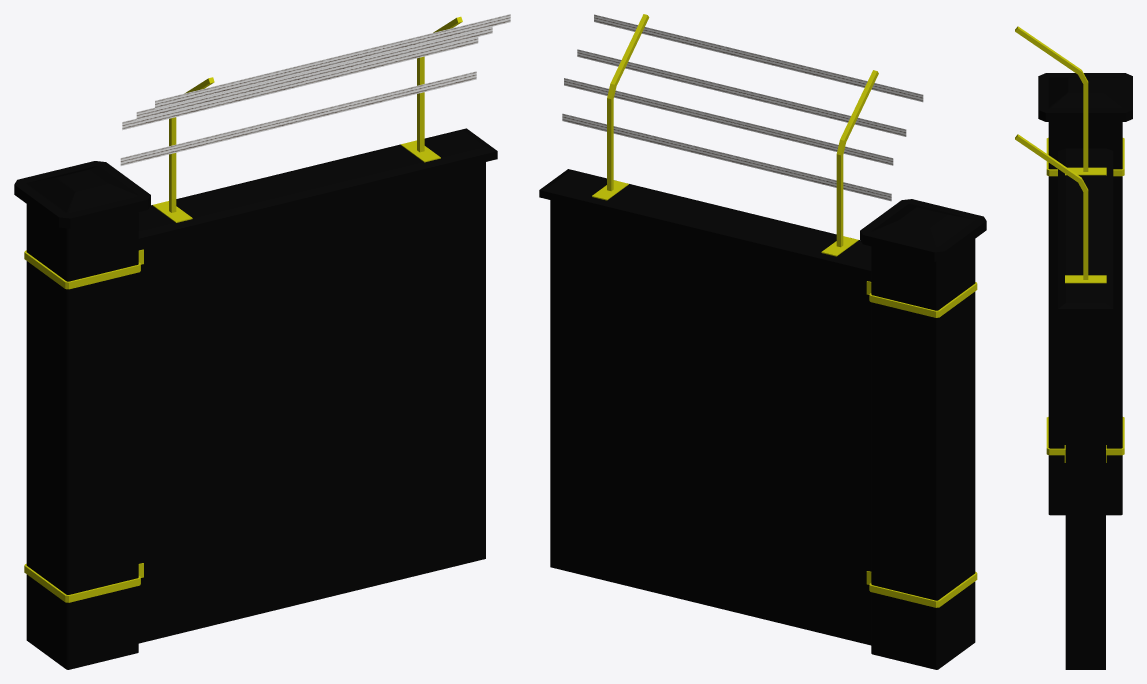
Rendered from WallEnd_Short.fbx.
The picture shows the model from 3 angles, left to right: view 1: azimuth 30°, elevation 25°; view 2: azimuth 150°, elevation 25°; view 3: azimuth 270°, elevation 25°; orthographic projection. The views are drawn at different scales.
Visible parts, largest first — view 1: Wall_Post; view 2: Wall_Post; view 3: Wall_Post.
Boxes of the visible parts, box(x1,y1,x2,y2) form: Wall_Post: box(14, 14, 510, 669); Wall_Post: box(539, 14, 986, 669); Wall_Post: box(1015, 26, 1132, 669).
Size of the model in its own units: 3.42 by 4.21 by 0.8795.
